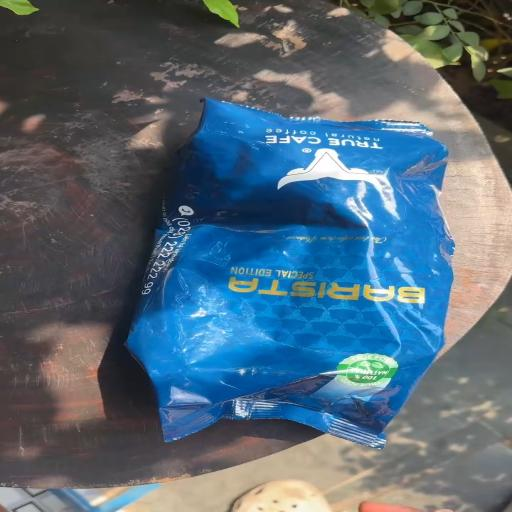cafe_hat: (127, 99, 454, 448)
